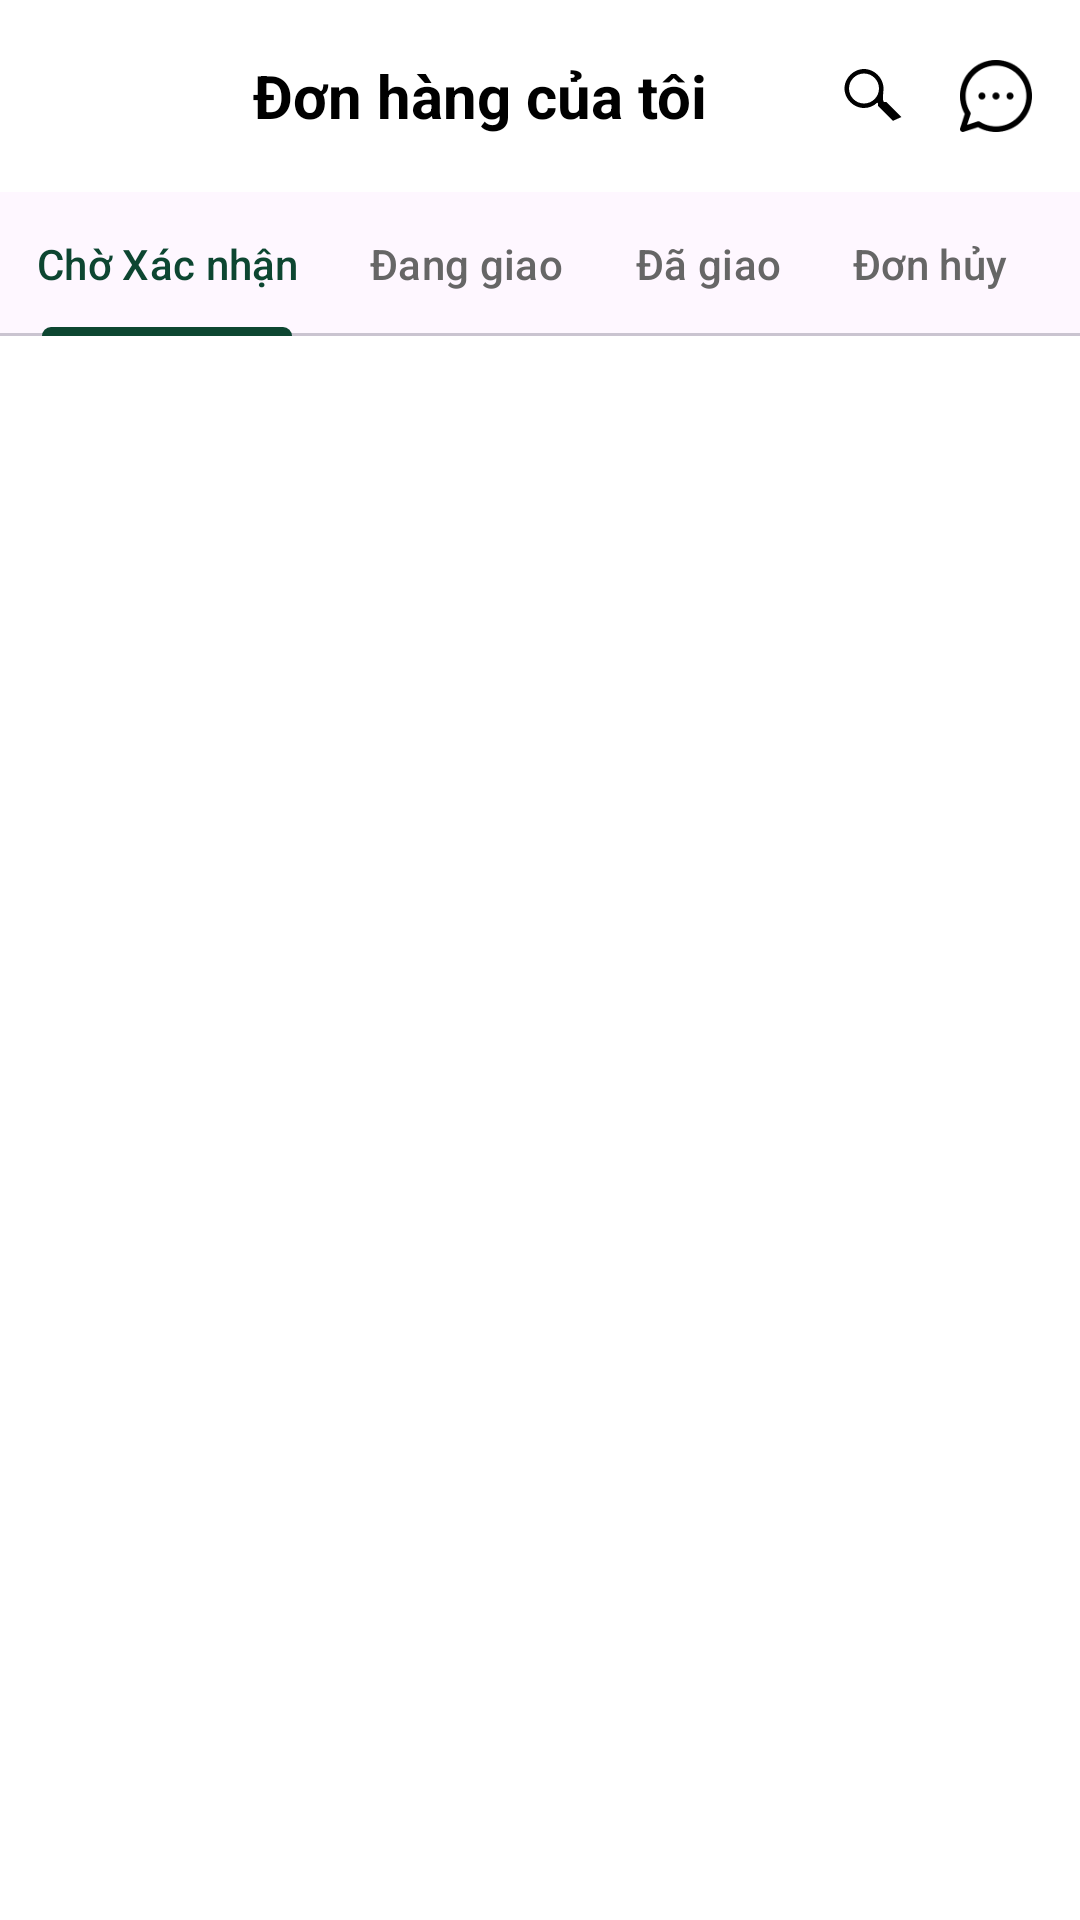

Named icons in this screenshot (1080 x 1920) and their bounding boxes, Rect(x1, y1, x2, y2):
Chat: Rect(960, 60, 1032, 132)
Search: Rect(844, 69, 901, 121)
